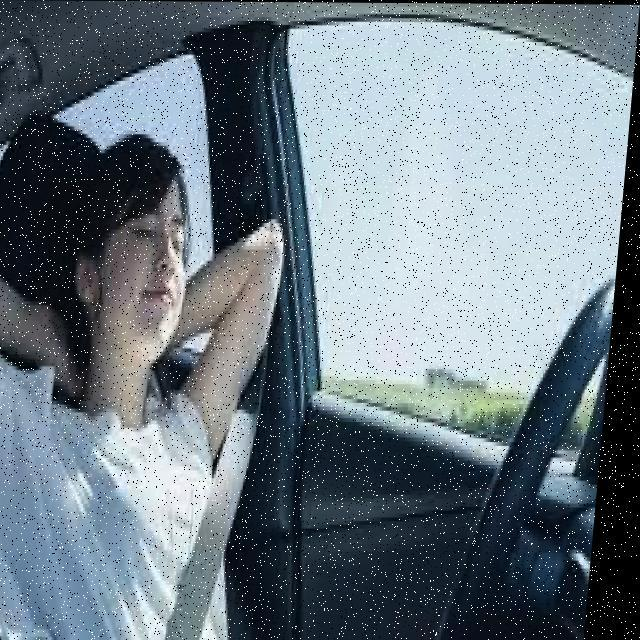seatbelt: (28, 313, 280, 640)
